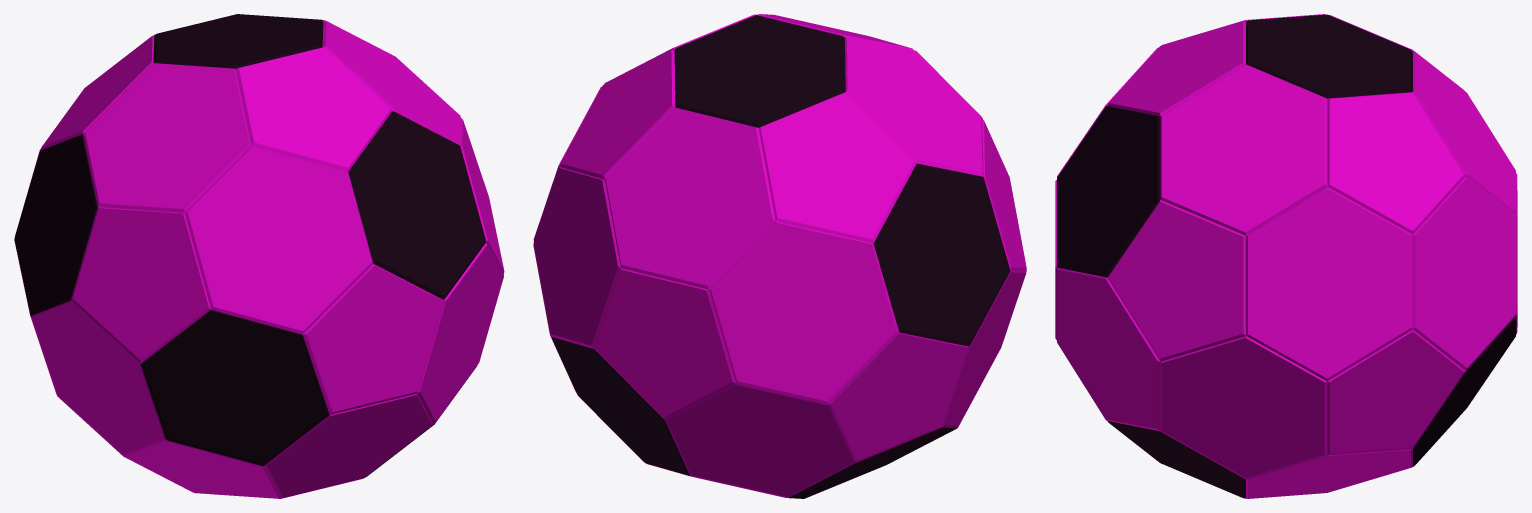
The model's file is SoccerBall_01.fbx.
The picture shows the model from 3 angles, left to right: view 1: azimuth 30°, elevation 25°; view 2: azimuth 150°, elevation 25°; view 3: azimuth 270°, elevation 25°; orthographic projection.
Visible parts, largest first — view 1: SoccerBall_01; view 2: SoccerBall_01; view 3: SoccerBall_01.
Part boxes in pixels (x1,y1,x2,y2): SoccerBall_01: [14, 14, 504, 498]; SoccerBall_01: [533, 14, 1026, 498]; SoccerBall_01: [1055, 14, 1517, 498].
Bounding box in the file's own units: 4.93 × 4.86 × 4.73.
